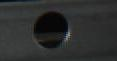holes: (31, 10, 72, 50)
